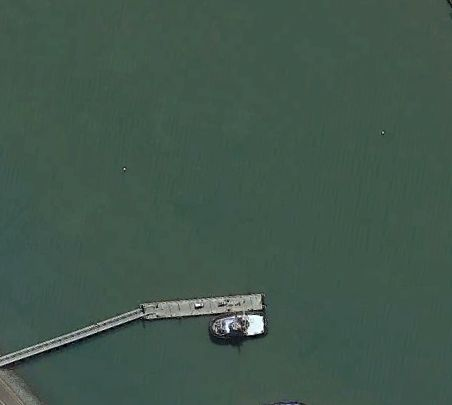boat: (208, 312, 271, 343)
